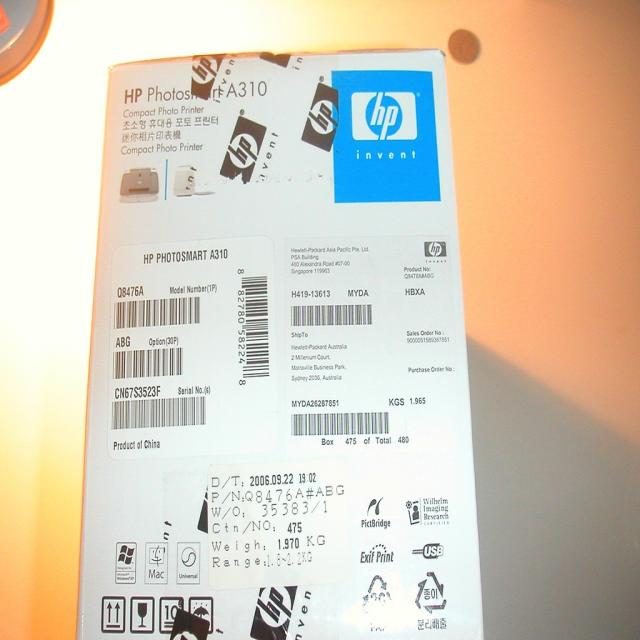HP: (347, 88, 423, 146), (245, 578, 302, 640), (220, 115, 269, 186), (301, 83, 342, 154), (190, 55, 231, 104)
